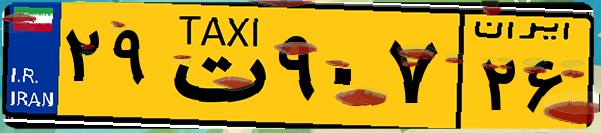0: (330, 28, 385, 110)
2: (57, 26, 110, 100), (475, 38, 525, 113)
6: (525, 38, 570, 115)
7: (385, 28, 445, 110)
9: (270, 28, 330, 110), (110, 28, 158, 98)
ت: (158, 12, 270, 120)
